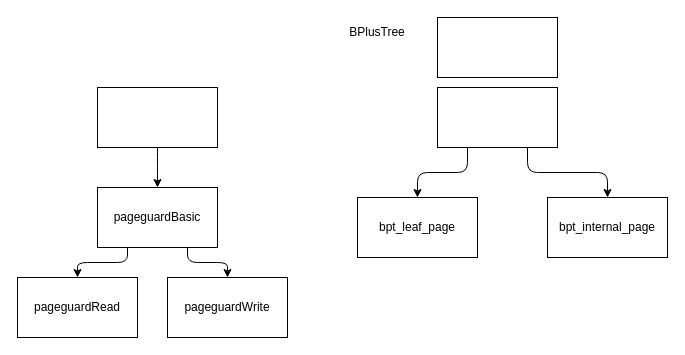
The diagram is 685 pixels wide and 355 high, and some of its shapes have lost their labels. Each missing label, with the box of its shape:
bpt header page: (436, 16, 558, 78)
bpt page: (436, 86, 558, 148)
page: (96, 86, 218, 148)
